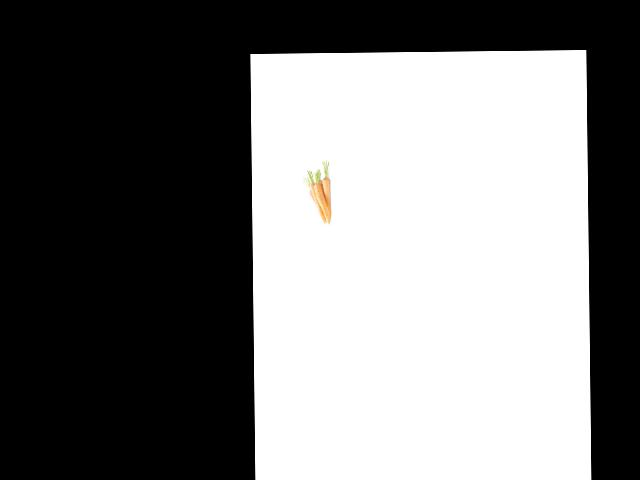carrot: (322, 178, 333, 225)
